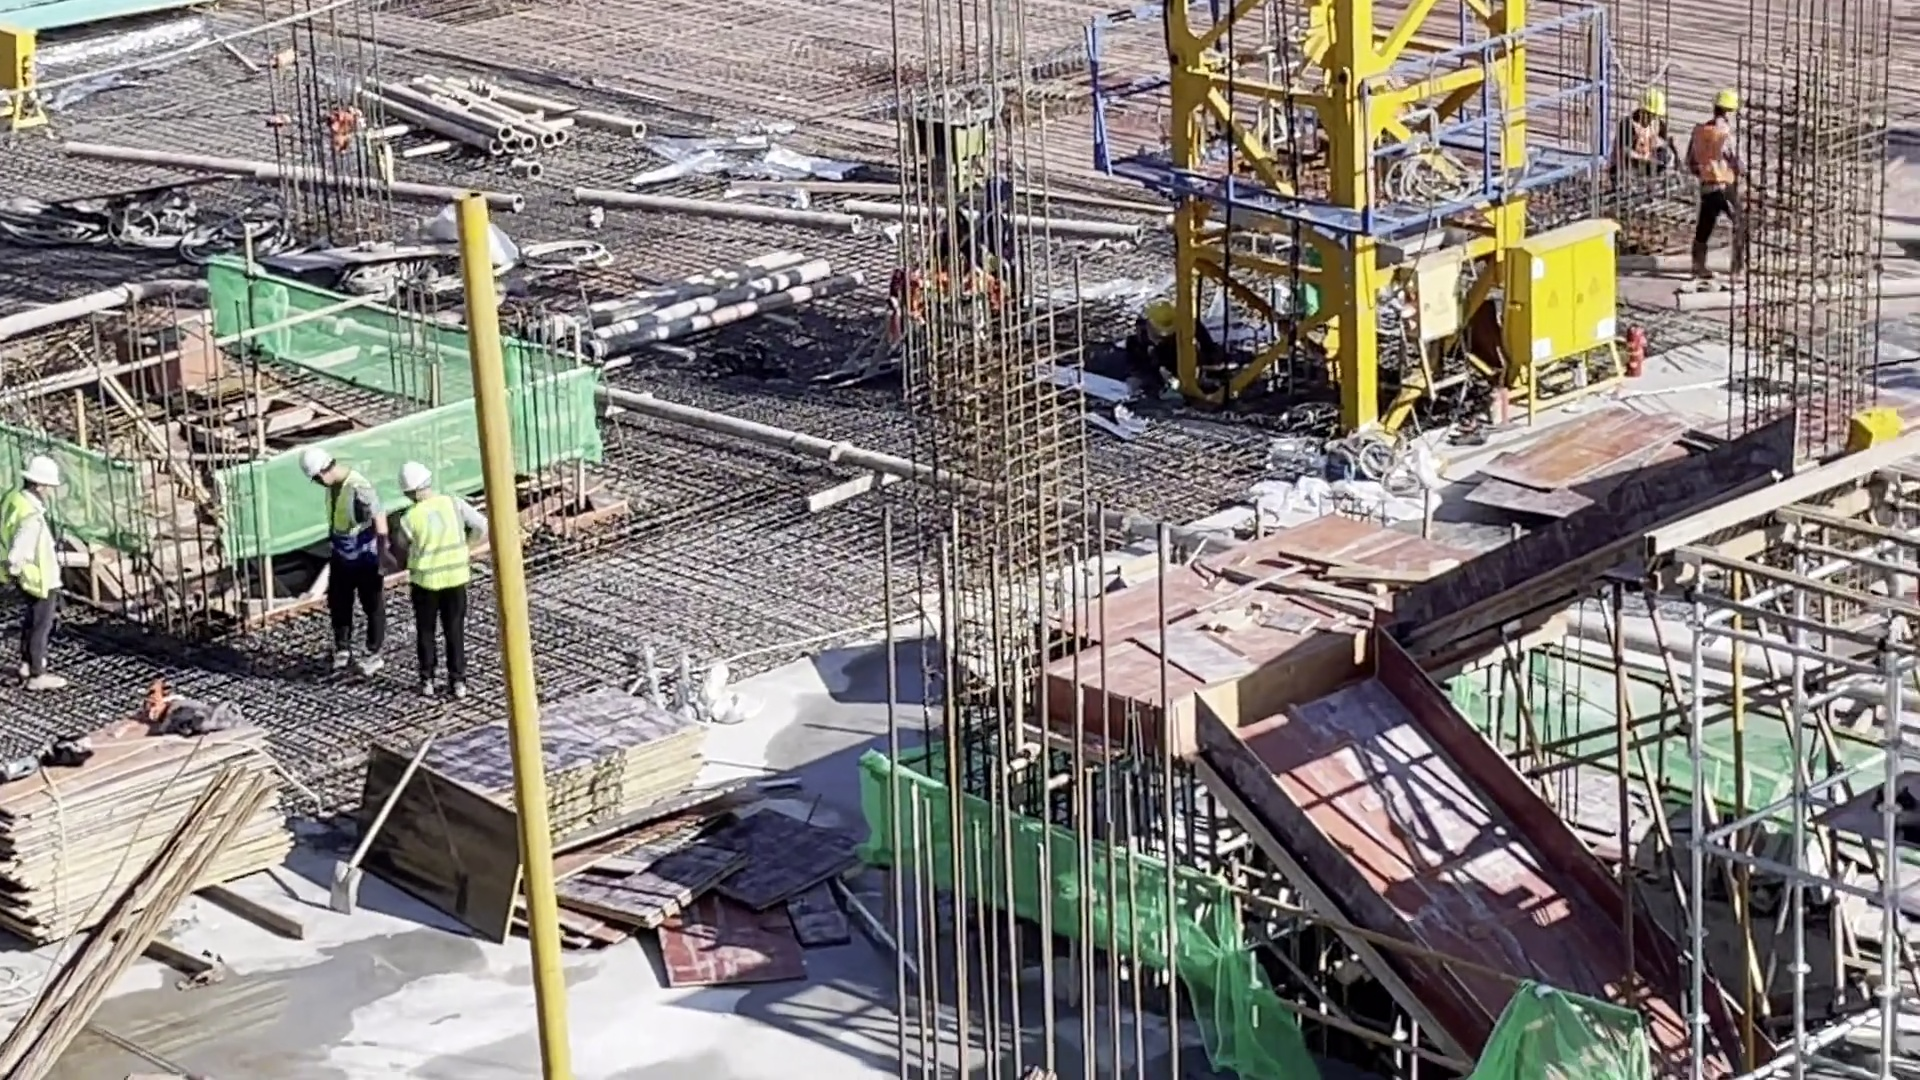board: (7, 706, 295, 950), (378, 683, 717, 873)
ebox: (1501, 219, 1629, 415), (3, 24, 48, 136)
helmet: (24, 454, 62, 488), (1147, 297, 1180, 336), (400, 464, 435, 493), (303, 451, 335, 483), (1711, 87, 1744, 116), (1640, 87, 1666, 116)
person: (393, 465, 493, 700), (303, 449, 382, 685), (10, 450, 78, 698), (1689, 86, 1759, 287), (1133, 297, 1214, 382), (1621, 87, 1670, 209)
vest: (398, 503, 473, 598), (10, 493, 63, 601), (326, 483, 384, 561), (1688, 121, 1744, 195), (1626, 120, 1666, 161)
